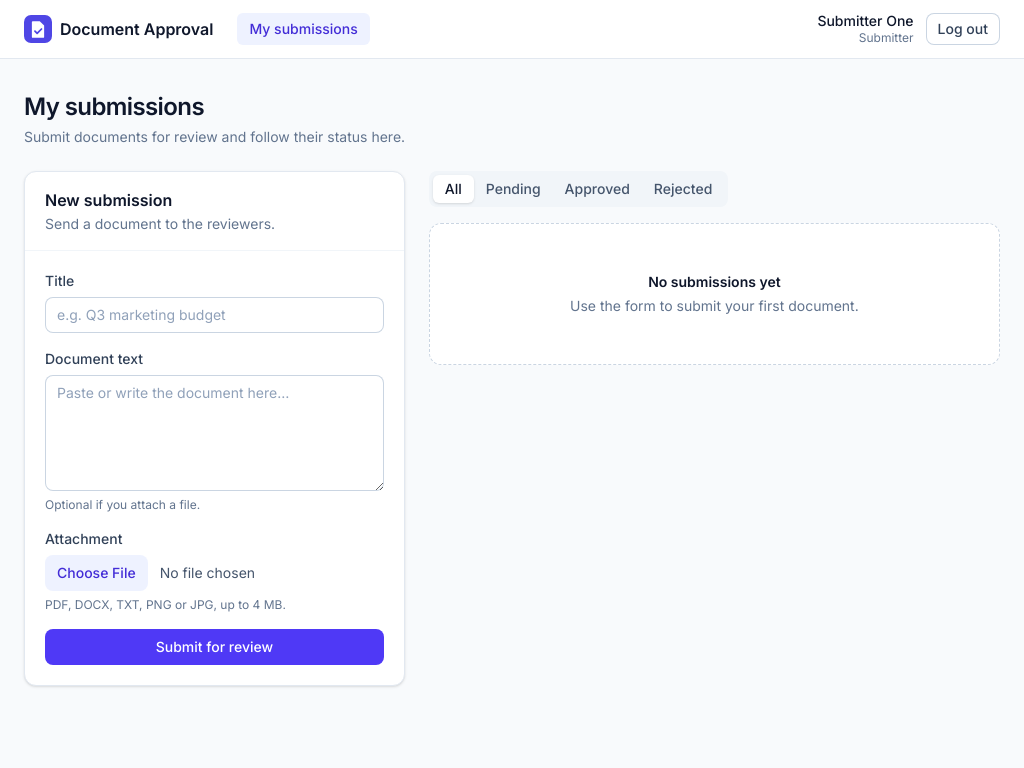
Test: MySubmissionsPage – new submission form › shows the server's field errors
The image size is (1024, 768).
Type "A title" into the field labelled "Title" at (214, 314), box [45, 296, 384, 332]
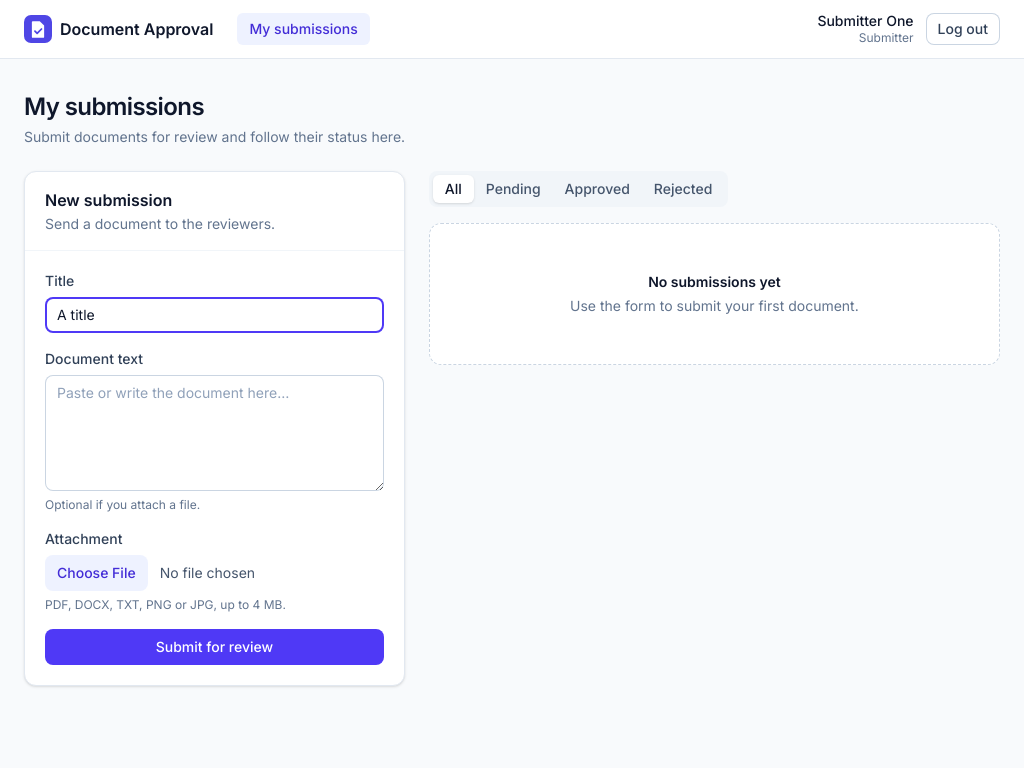
Type "Text" into the text box labelled "Document text" at (214, 432), box [45, 374, 384, 490]
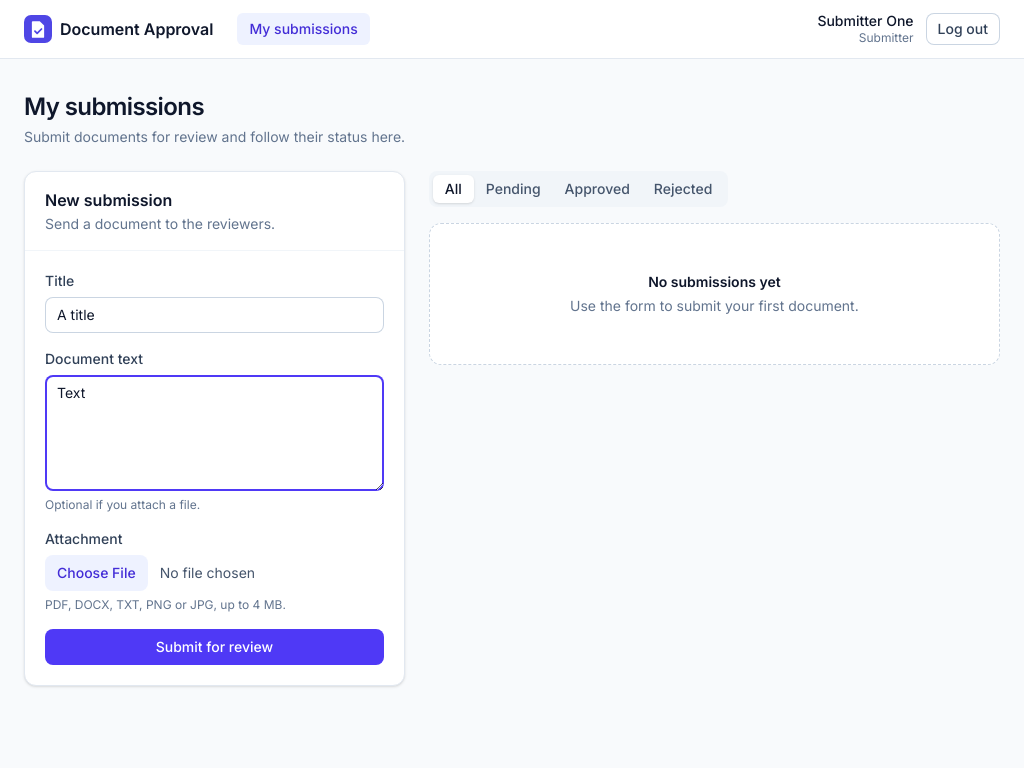
Click the button "Submit for review" at (214, 646), box [45, 628, 384, 664]
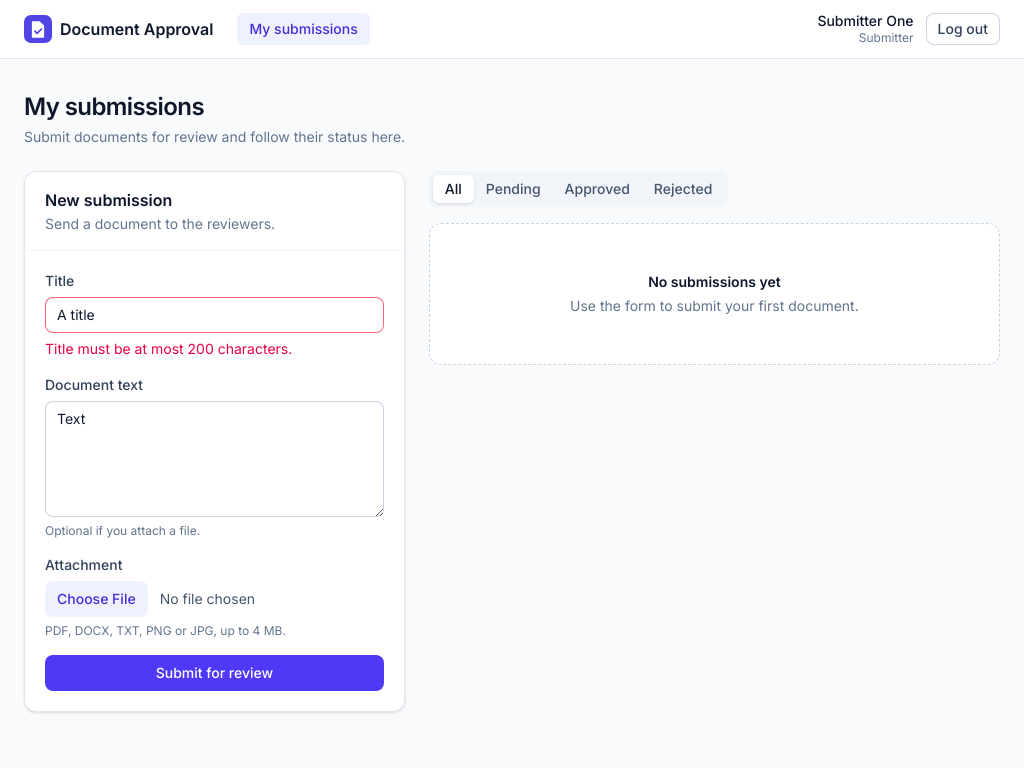
Expected: the text "Title must be at most 200 characters." is shown, [45, 340, 292, 356]
